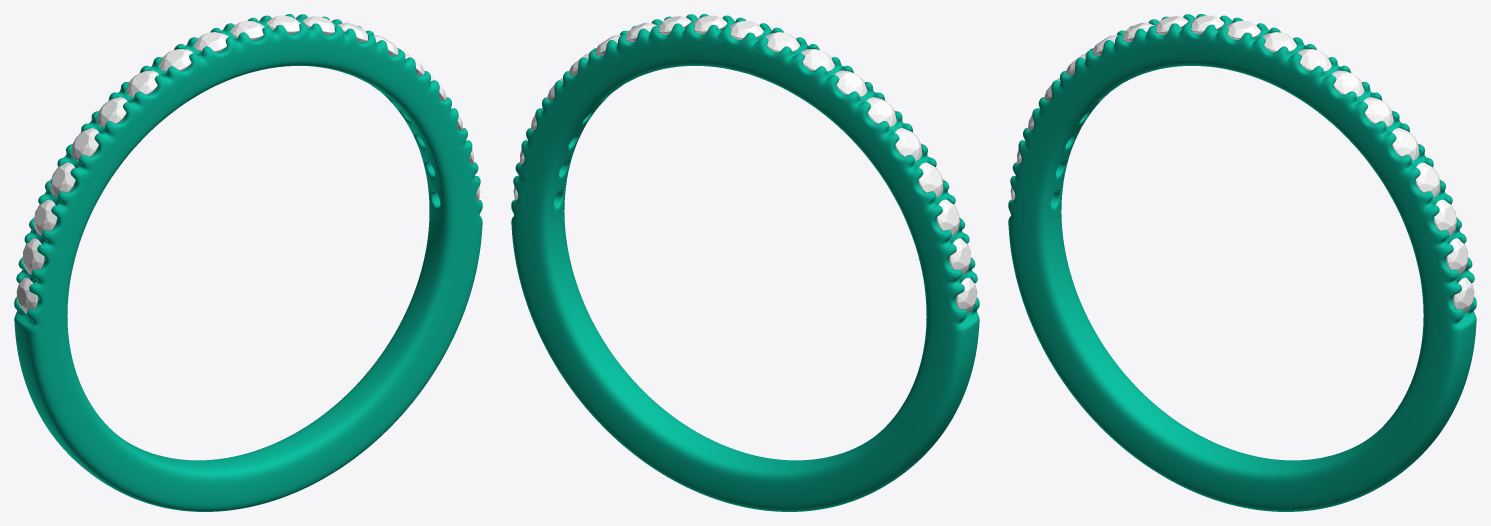
File: BE2FPD14_RENDER.glb
3 renders of one model, left to right at view 1: azimuth 30°, elevation 25°; view 2: azimuth 150°, elevation 25°; view 3: azimuth 330°, elevation 25°, orthographic.
Visible parts, largest first — view 1: Metal03, Diamond_Round_Gem_BD.003, Diamond_Round_Gem_BD.004, Diamond_Round_Gem_BD.005, Diamond_Round_Gem_BD.002, Diamond_Round_Gem_BD.006, Diamond_Round_Gem_BD.001, Diamond_Round_Gem_BD.007; view 2: Metal03, Diamond_Round_Gem_BD.004, Diamond_Round_Gem_BD.003, Diamond_Round_Gem_BD.005, Diamond_Round_Gem_BD.006, Diamond_Round_Gem_BD.002, Diamond_Round_Gem_BD.007, Diamond_Round_Gem_BD.001; view 3: Metal03, Diamond_Round_Gem_BD.014, Diamond_Round_Gem_BD.015, Diamond_Round_Gem_BD.013, Diamond_Round_Gem_BD.012, Diamond_Round_Gem_BD.016, Diamond_Round_Gem_BD.011, Diamond_Round_Gem_BD.017.
Part boxes in pixels (left/top/right/bottom): Metal03: left=14, top=14, right=482, bottom=511; Diamond_Round_Gem_BD.003: left=50, top=162, right=75, bottom=197; Diamond_Round_Gem_BD.004: left=71, top=128, right=98, bottom=160; Diamond_Round_Gem_BD.005: left=97, top=97, right=127, bottom=127; Diamond_Round_Gem_BD.002: left=34, top=199, right=57, bottom=235; Diamond_Round_Gem_BD.006: left=126, top=70, right=158, bottom=97; Diamond_Round_Gem_BD.001: left=23, top=238, right=44, bottom=274; Diamond_Round_Gem_BD.007: left=159, top=49, right=192, bottom=71; Metal03: left=511, top=14, right=979, bottom=511; Diamond_Round_Gem_BD.004: left=895, top=128, right=922, bottom=160; Diamond_Round_Gem_BD.003: left=918, top=162, right=943, bottom=197; Diamond_Round_Gem_BD.005: left=866, top=97, right=896, bottom=127; Diamond_Round_Gem_BD.006: left=835, top=70, right=867, bottom=97; Diamond_Round_Gem_BD.002: left=936, top=199, right=959, bottom=235; Diamond_Round_Gem_BD.007: left=801, top=49, right=834, bottom=71; Diamond_Round_Gem_BD.001: left=949, top=238, right=970, bottom=274; Metal03: left=1008, top=14, right=1476, bottom=511; Diamond_Round_Gem_BD.014: left=1392, top=128, right=1419, bottom=160; Diamond_Round_Gem_BD.015: left=1415, top=162, right=1440, bottom=197; Diamond_Round_Gem_BD.013: left=1363, top=97, right=1393, bottom=127; Diamond_Round_Gem_BD.012: left=1332, top=70, right=1364, bottom=97; Diamond_Round_Gem_BD.016: left=1433, top=199, right=1456, bottom=235; Diamond_Round_Gem_BD.011: left=1298, top=49, right=1331, bottom=71; Diamond_Round_Gem_BD.017: left=1446, top=238, right=1467, bottom=274.
Bounding box in the file's own units: 20.09 × 20.08 × 1.7.
